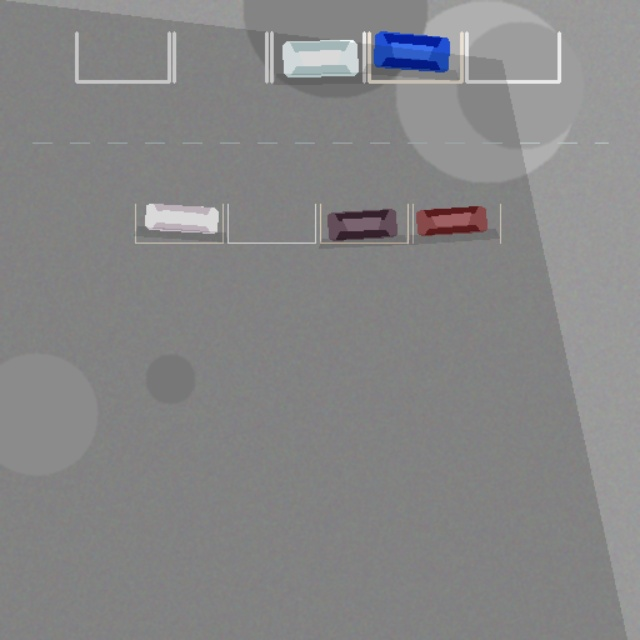space-empty: (76, 32, 169, 81), (466, 32, 559, 81), (174, 32, 266, 81), (227, 204, 315, 243)
space-occupied: (271, 32, 364, 81), (369, 32, 461, 81), (135, 204, 223, 243), (320, 204, 407, 243), (413, 204, 500, 243)
